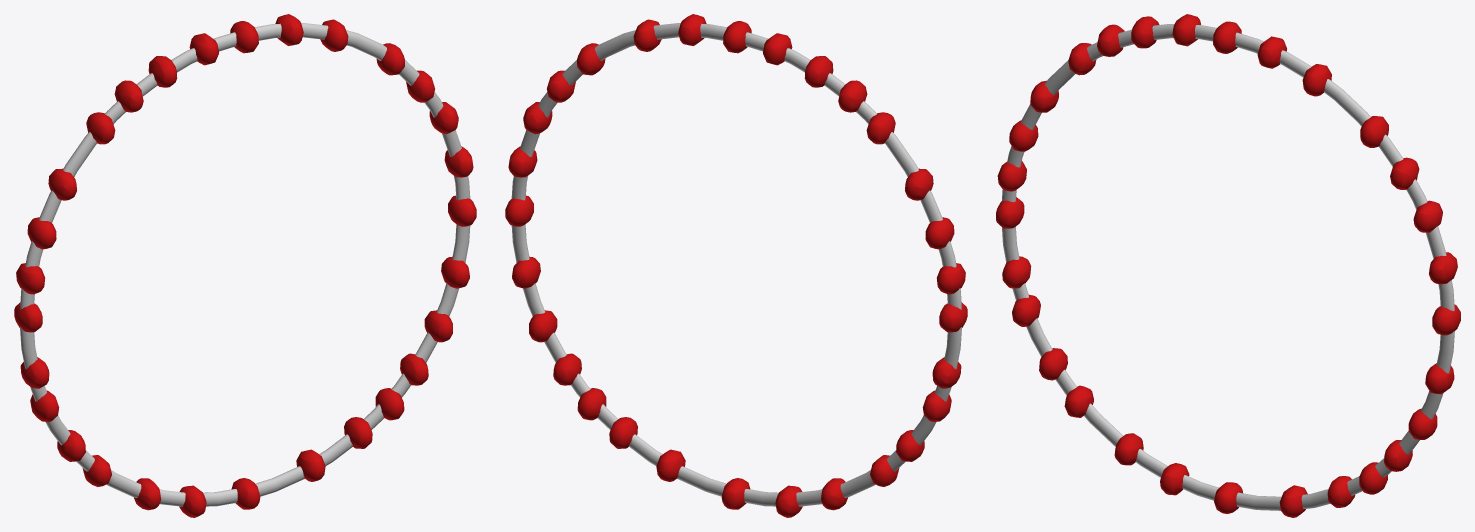
The picture shows the model from 3 angles, left to right: view 1: azimuth 30°, elevation 25°; view 2: azimuth 150°, elevation 25°; view 3: azimuth 330°, elevation 25°; orthographic projection.
Parts seen in each view (by area): view 1: Electron_Mball, Ring_Torus; view 2: Electron_Mball, Ring_Torus; view 3: Electron_Mball, Ring_Torus.
Boxes of the visible parts, bbox=[...] form: Electron_Mball: bbox=[14, 14, 476, 517]; Ring_Torus: bbox=[20, 23, 470, 506]; Electron_Mball: bbox=[505, 14, 967, 517]; Ring_Torus: bbox=[511, 23, 961, 506]; Electron_Mball: bbox=[996, 14, 1460, 517]; Ring_Torus: bbox=[1002, 24, 1454, 510].
Size of the model in its own units: 2.91 by 2.96 by 0.2139.
